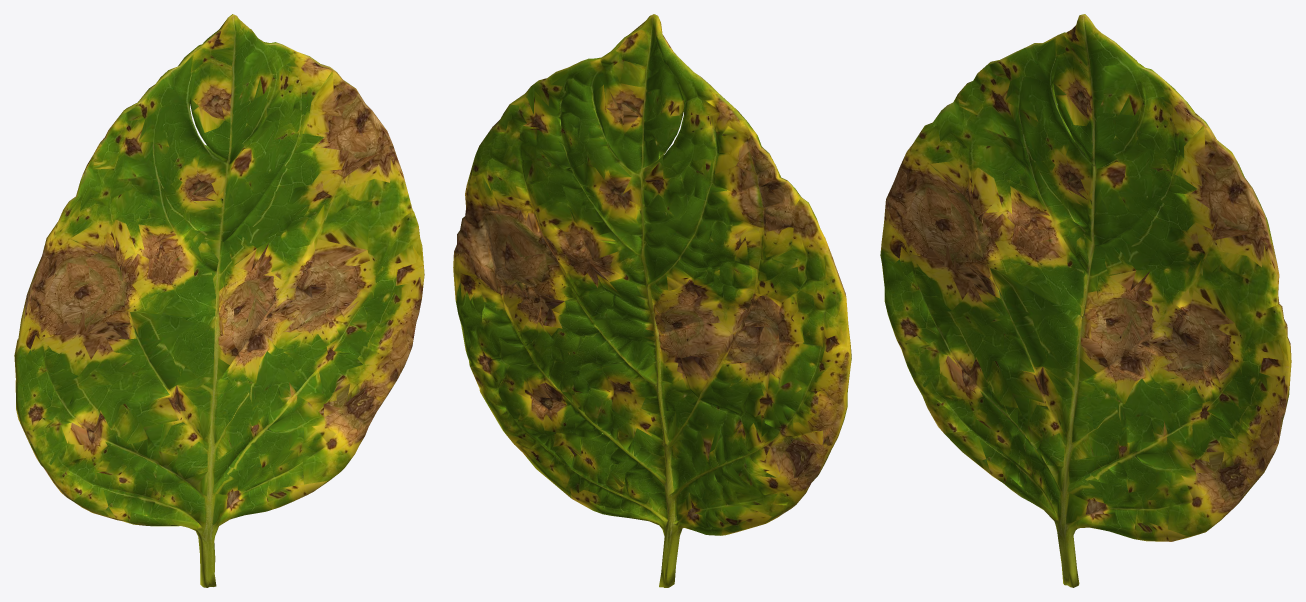
File: soybean_target_spot.glb
3 views of the same model, side by side, from view 1: azimuth 30°, elevation 25°; view 2: azimuth 150°, elevation 25°; view 3: azimuth 330°, elevation 25° (orthographic). The views are drawn at different scales.
Parts seen in each view (by area): view 1: soybean_target_spot; view 2: soybean_target_spot; view 3: soybean_target_spot.
Part boxes in pixels (box(x1,y1,x2,y2)): soybean_target_spot: box(14, 14, 424, 587); soybean_target_spot: box(453, 14, 851, 587); soybean_target_spot: box(880, 14, 1291, 587).
Size of the model in its own units: 0.7447 by 1 by 0.0609.
1 material, 1 textured.
